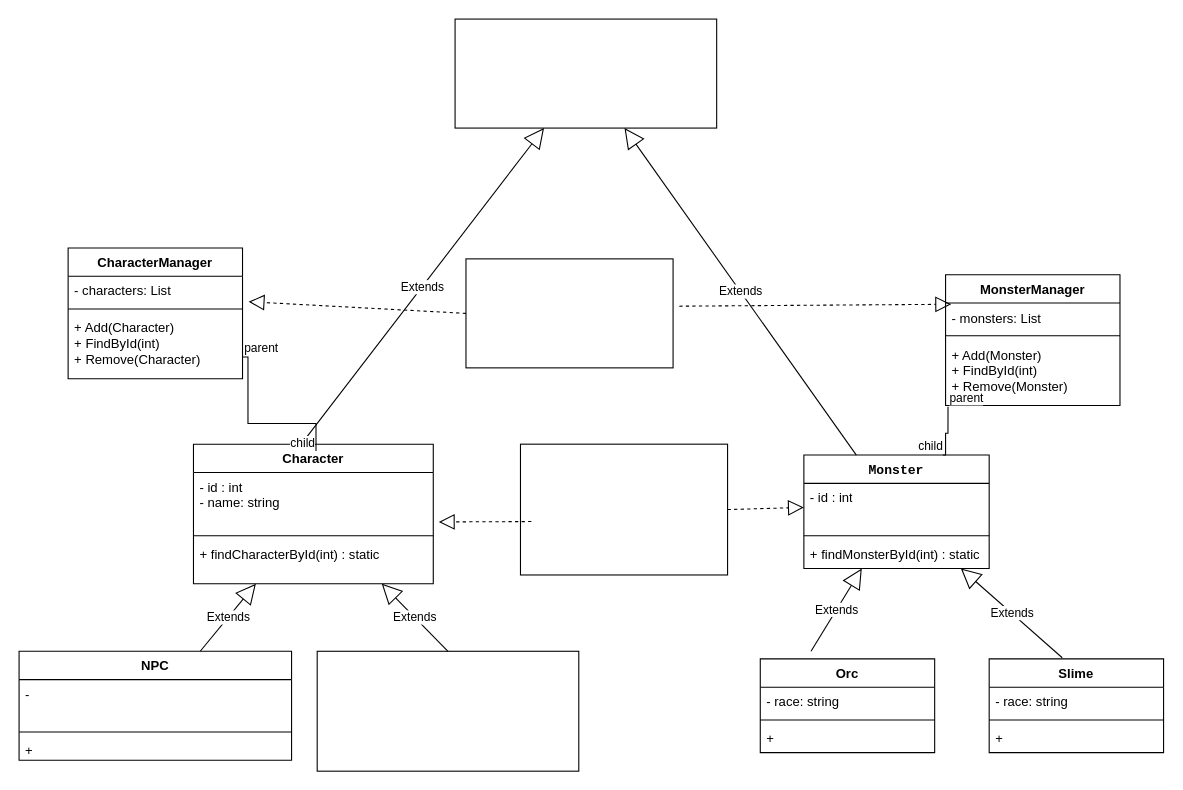
Some shapes in this 1183 by 790 pixel diagram are drawn without their labels. The centre of each missing label's shape, as x and y in pixels:
"<<Interface>> ICombat + + attack(int) : int" belongs at (x=623, y=509).
"<<Interface>> IManager<T> + Add(T): void + FindById(int): T + Remove(T): void" belongs at (x=569, y=313).
"LivingEntity - healthPoint : int - fattackPoint : int +" belongs at (x=585, y=73).
"Player - level : int +" belongs at (x=447, y=710).
